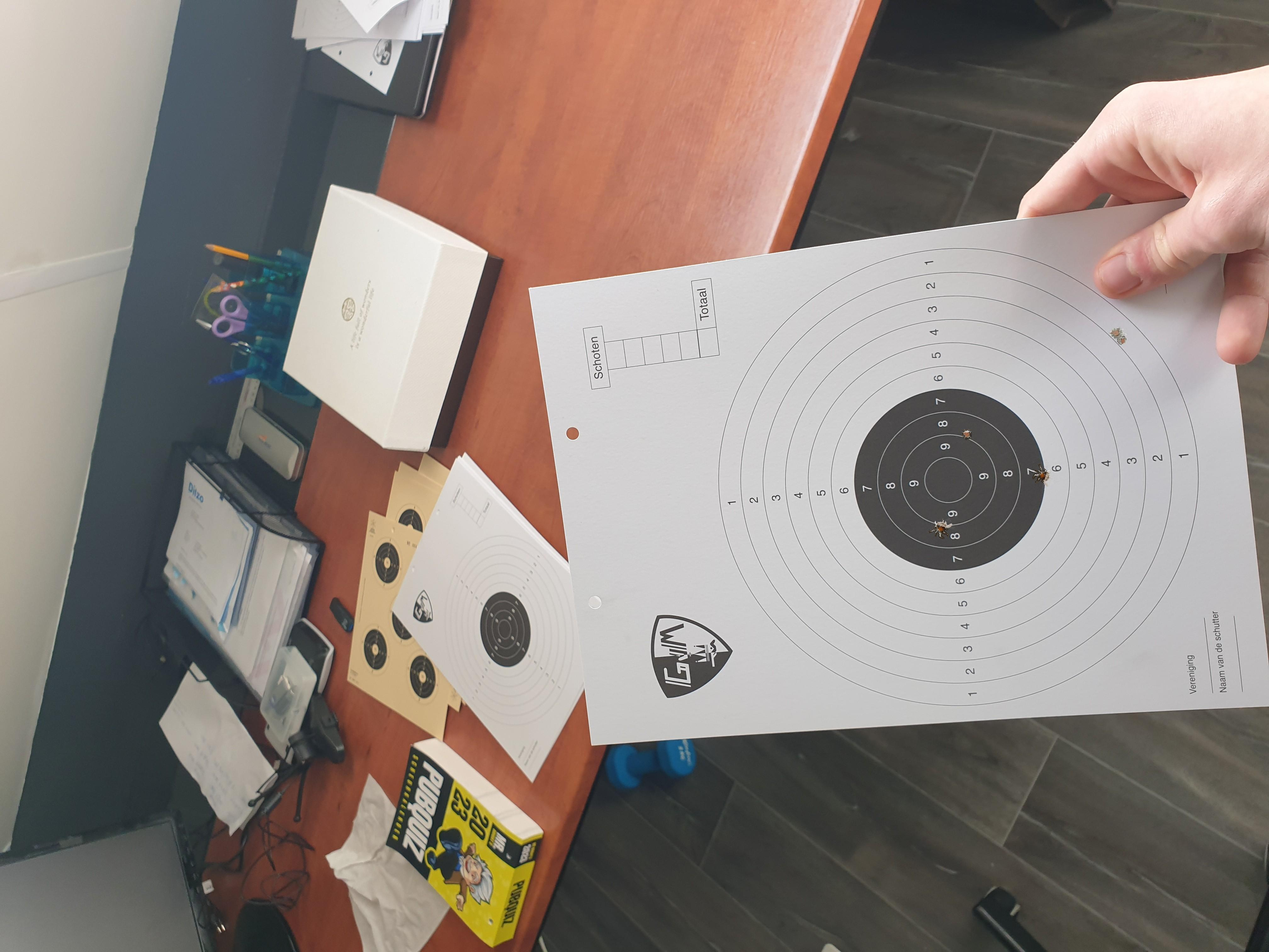hole: (929, 518, 953, 539), (1032, 463, 1050, 487), (1109, 327, 1127, 339), (960, 428, 973, 442), (1115, 336, 1128, 346)
